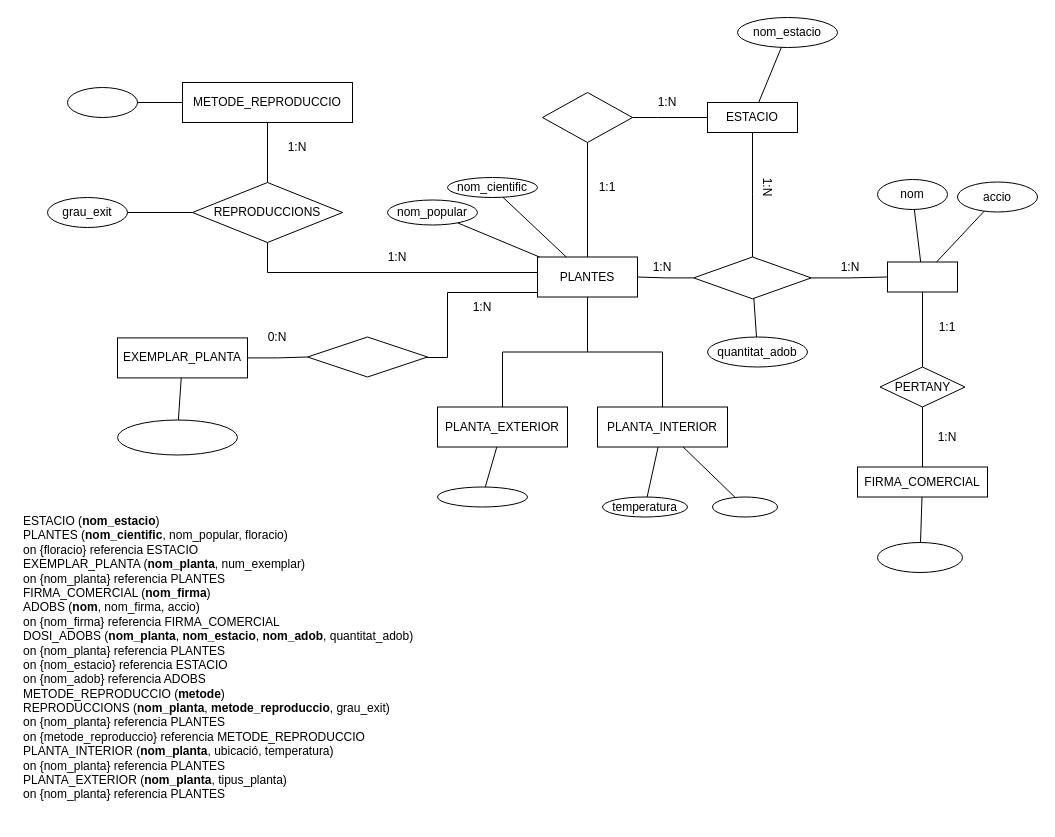
The diagram is 1055 pixels wide and 837 high, and some of its shapes have lost their labels. The centre of each missing label's shape, as x and y in pixels:
"ADOBS" goes at (x=922, y=276).
"DOSI_ADOBS" goes at (x=752, y=277).
"Exemplars" goes at (x=367, y=356).
"FLORACIO" goes at (x=587, y=117).
"metode" goes at (x=102, y=102).
"nom_firma" goes at (x=919, y=557).
"num_exemplar" goes at (x=177, y=437).
"tipus_planta" goes at (x=482, y=496).
"ubicacio" goes at (x=745, y=506).
